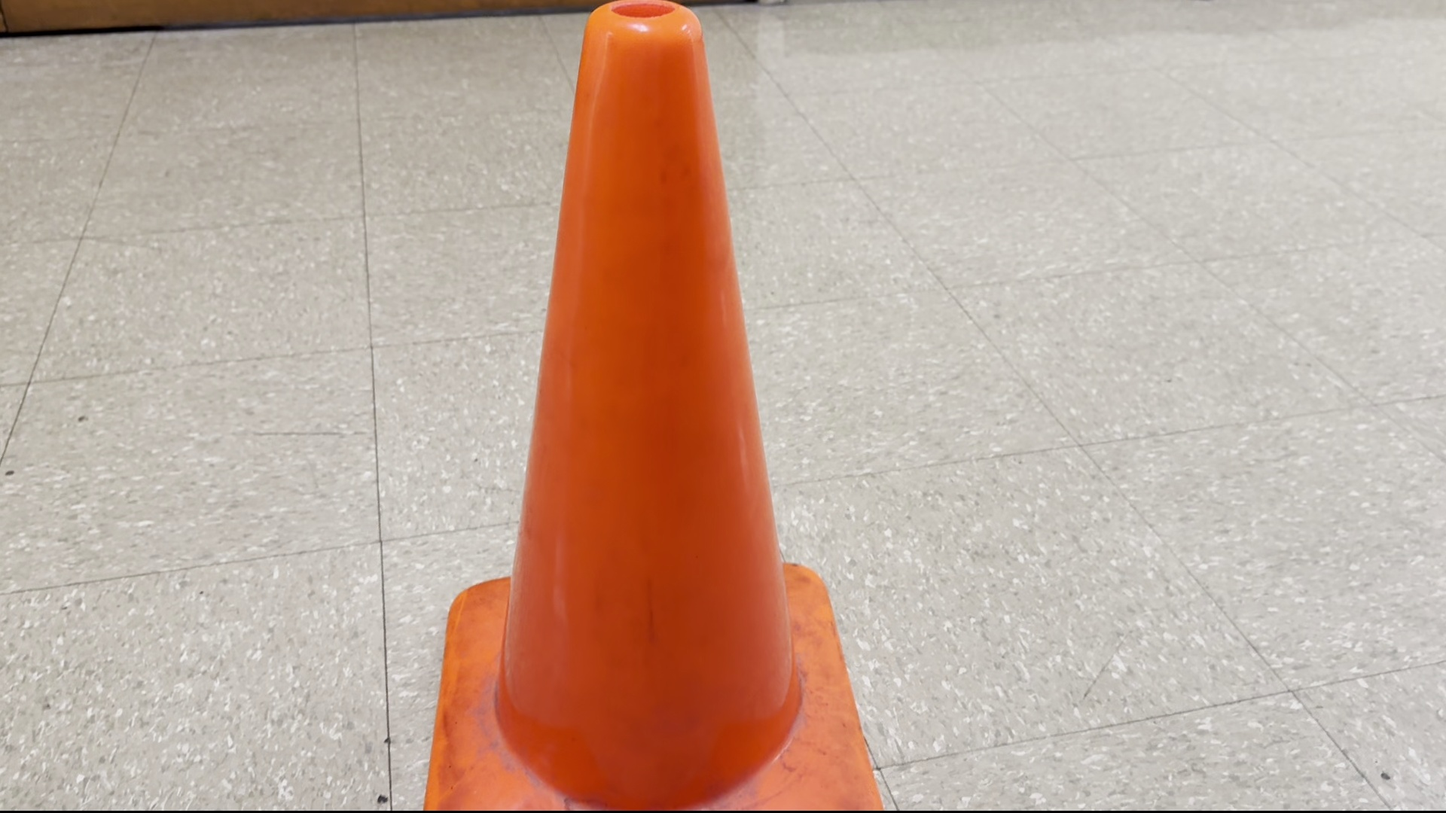traffic_cone: (422, 1, 884, 810)
